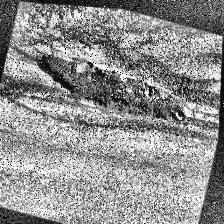pothole: (27, 43, 193, 130)
